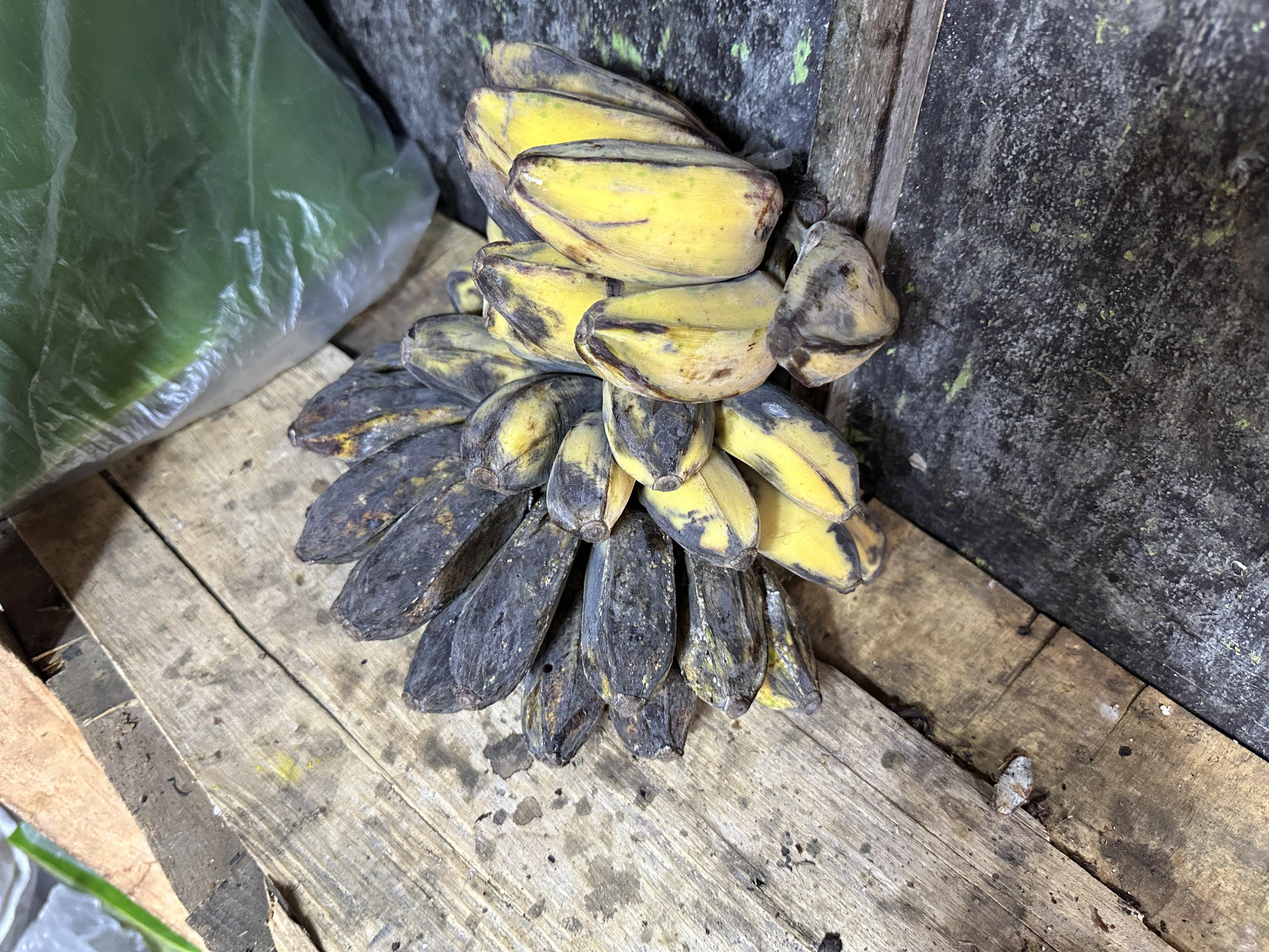overripe: (290, 344, 820, 764)
ripe: (461, 40, 901, 401), (402, 270, 860, 591)
